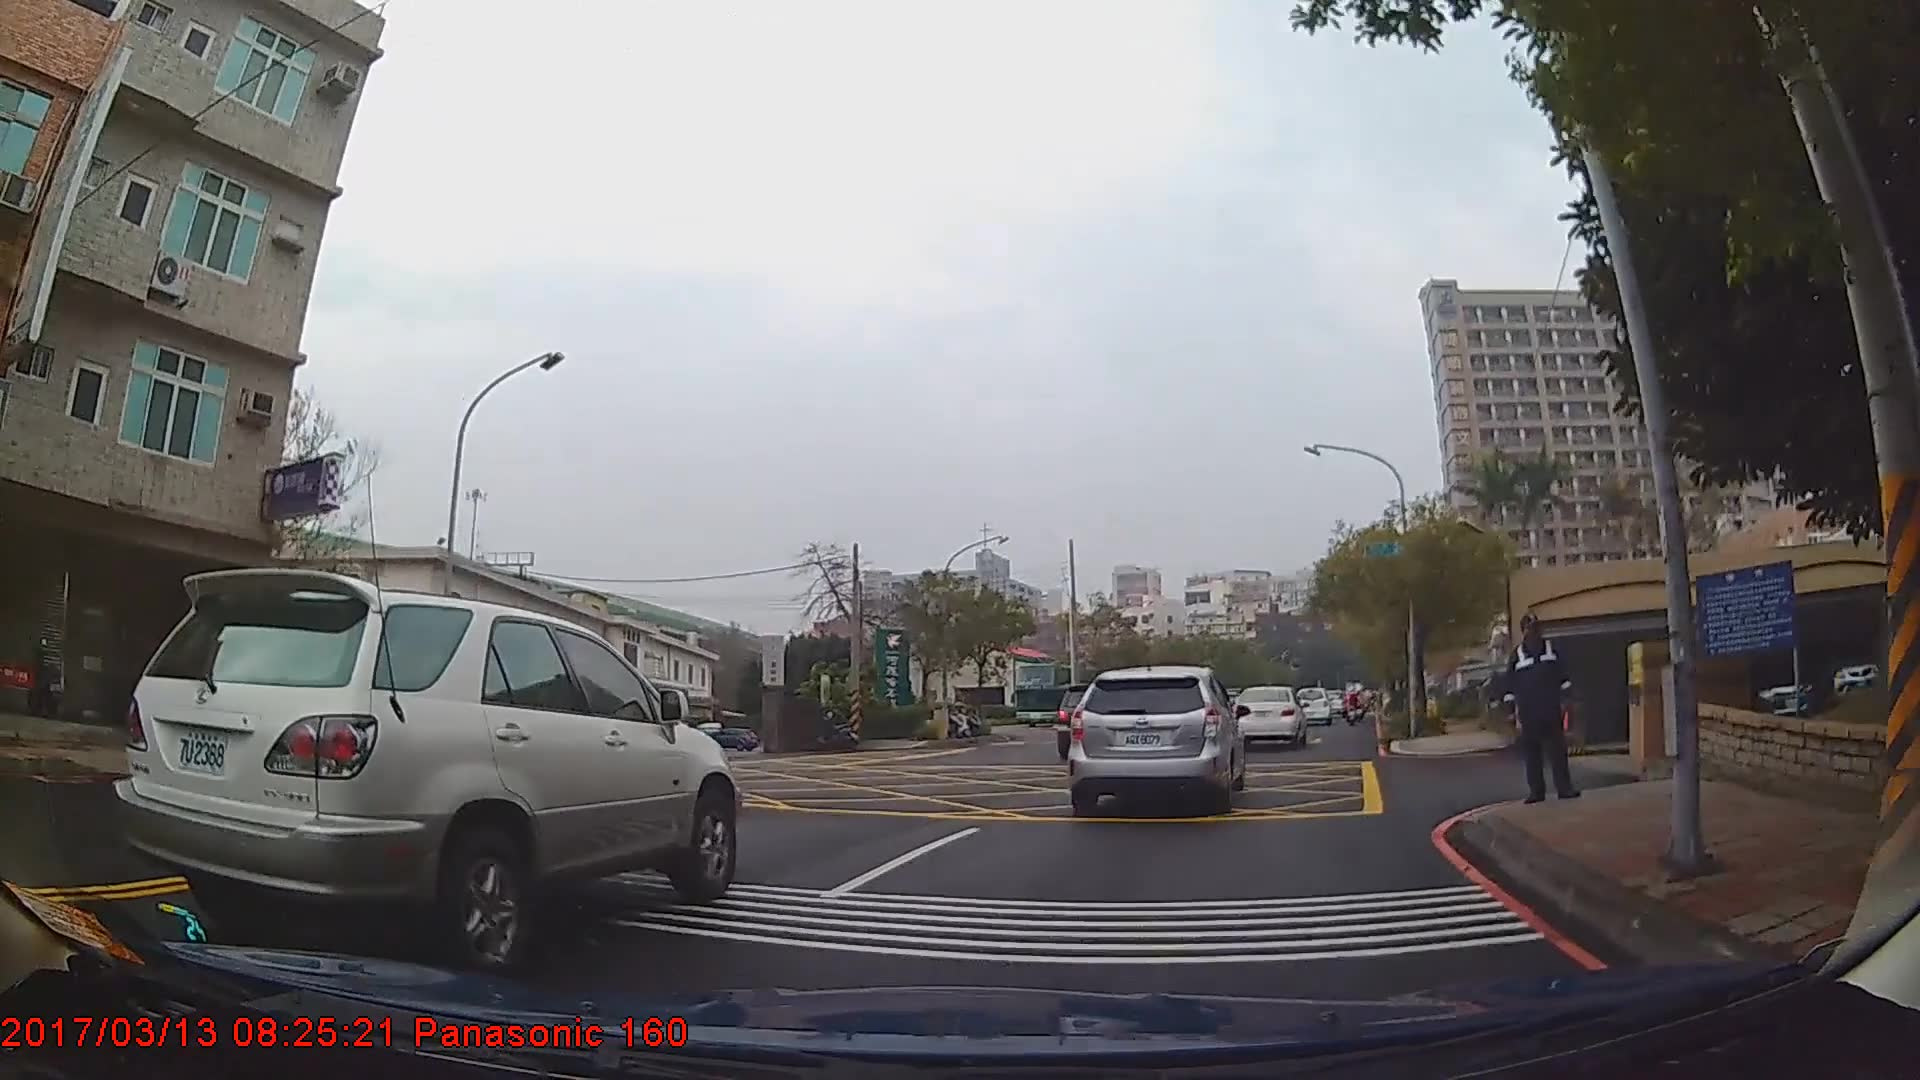pedestrian: (1506, 610, 1579, 806)
vehicle: (110, 562, 737, 975), (1068, 662, 1245, 813), (1228, 686, 1307, 751), (1295, 685, 1333, 726), (701, 726, 757, 748)
